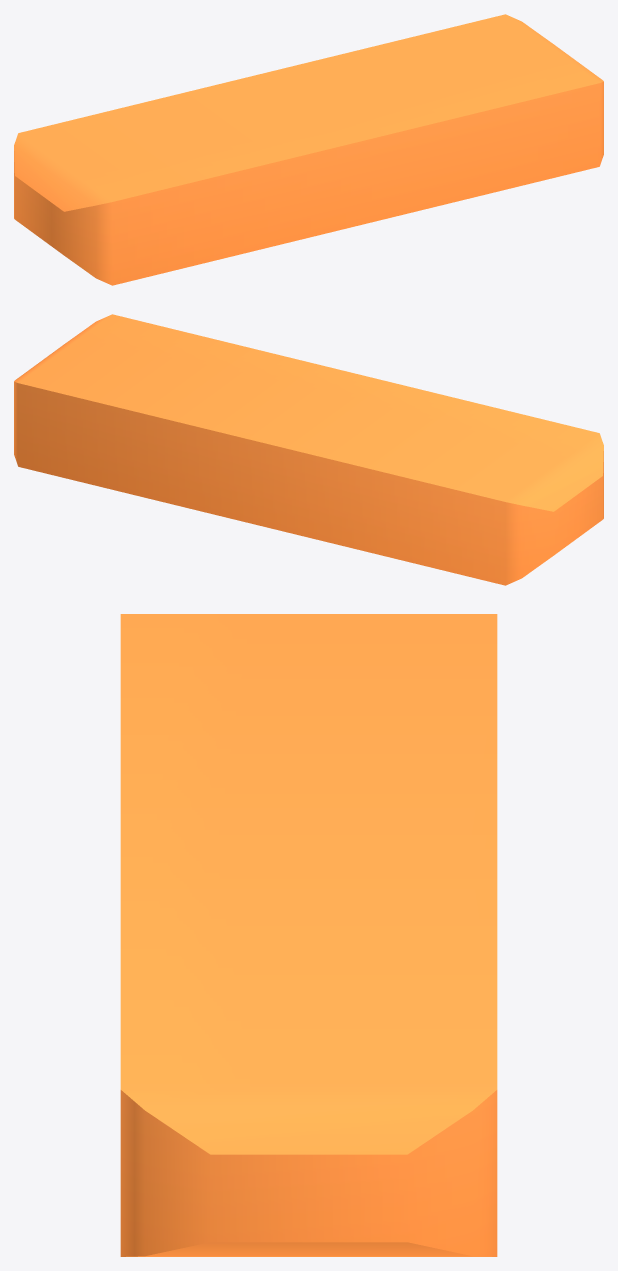
File: bronze_guard_081.glb
The picture shows the model from 3 angles, top to bottom: view 1: azimuth 30°, elevation 25°; view 2: azimuth 150°, elevation 25°; view 3: azimuth 270°, elevation 25°; orthographic projection. The views are drawn at different scales.
Visible parts, largest first — view 1: bronze_guard_081; view 2: bronze_guard_081; view 3: bronze_guard_081.
Part boxes in pixels (<box>): bronze_guard_081: <box>14,14,603,285</box>; bronze_guard_081: <box>14,314,603,585</box>; bronze_guard_081: <box>120,614,497,1256</box>.
Size of the model in its own units: 6.61 by 0.9809 by 2.
Materials: 1 (1 with a texture image).
